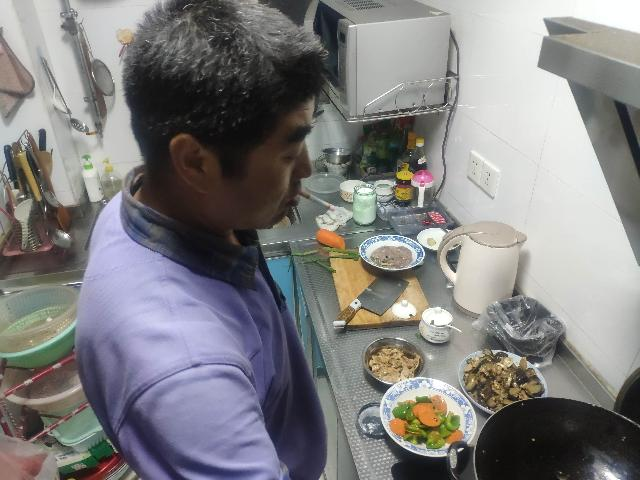Cigarette: (299, 191, 335, 212)
